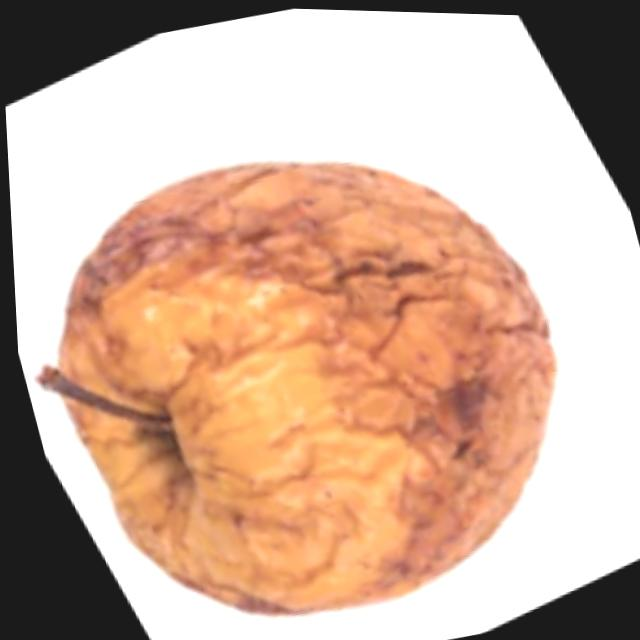organik: (0, 6, 618, 640)
